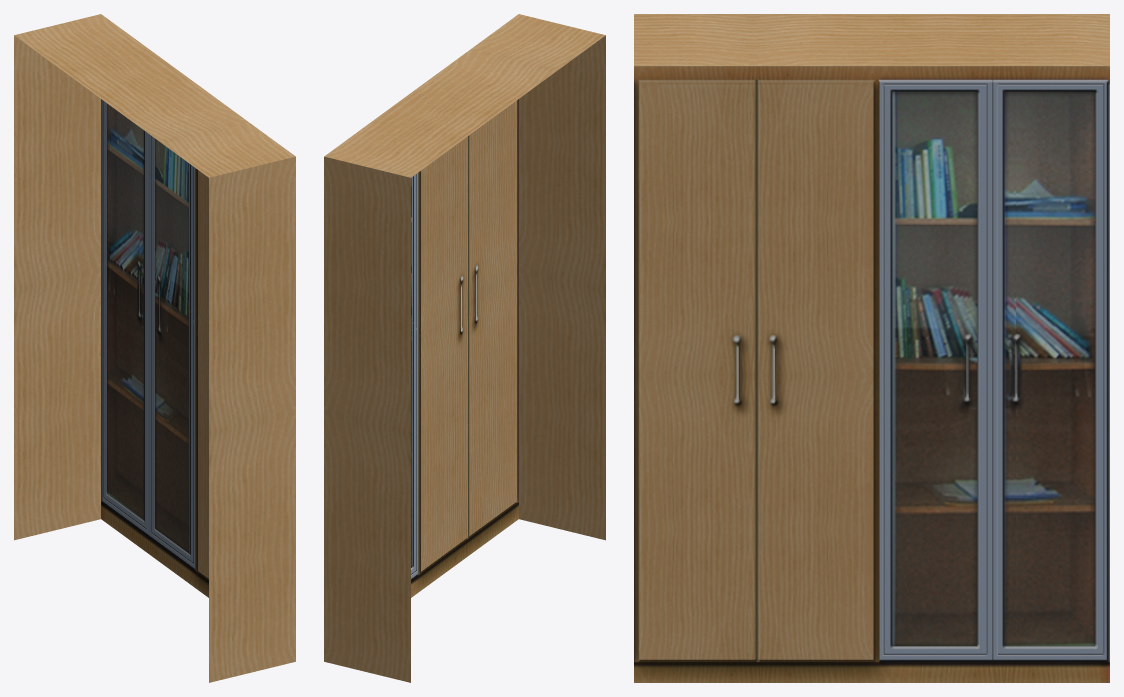
File: 3DGJ_chksh_cabinet_xp_wmr_DT_001.FBX
3 renders of one model, left to right at view 1: azimuth 30°, elevation 25°; view 2: azimuth 150°, elevation 25°; view 3: azimuth 270°, elevation 25°, orthographic. The views are drawn at different scales.
Visible parts, largest first — view 1: 3DGJ_chksh_cabinet_xp_wmr_DT_001; view 2: 3DGJ_chksh_cabinet_xp_wmr_DT_001; view 3: 3DGJ_chksh_cabinet_xp_wmr_DT_001.
Boxes of the visible parts, x1,y1,x2,y2 form: 3DGJ_chksh_cabinet_xp_wmr_DT_001: (14,14,295,682); 3DGJ_chksh_cabinet_xp_wmr_DT_001: (324,14,605,682); 3DGJ_chksh_cabinet_xp_wmr_DT_001: (634,14,1109,682).
Bounding box in the file's own units: 0.4017 × 2.23 × 1.56.
